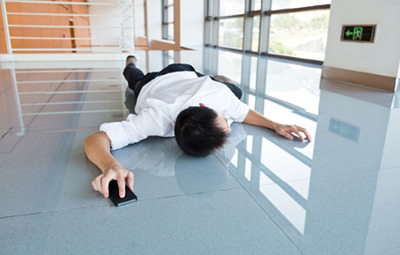collapsed: (42, 29, 377, 211)
